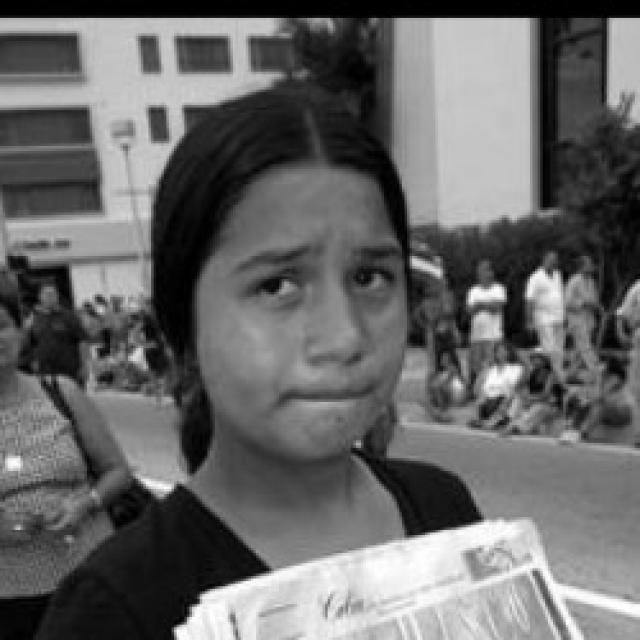real: (192, 164, 410, 458), (236, 240, 405, 320)
